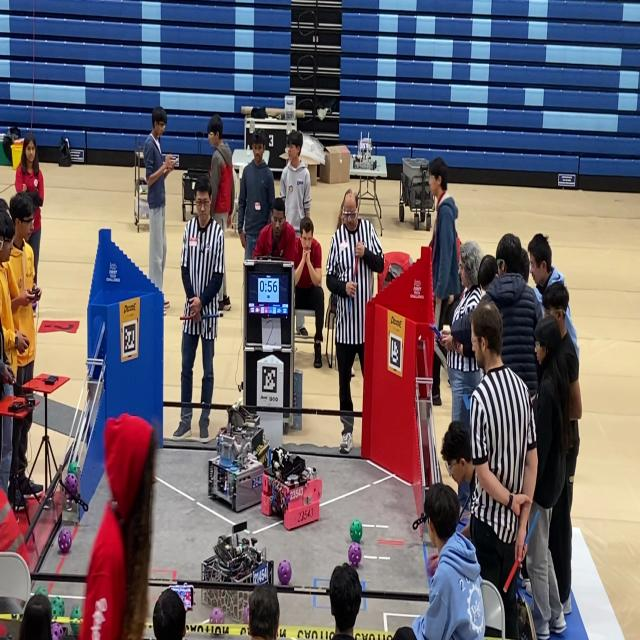artifact_green: (70, 607, 81, 635), (51, 597, 65, 618), (350, 520, 362, 542), (51, 622, 65, 639), (242, 603, 250, 625), (35, 587, 48, 597), (68, 462, 78, 475)
artifact_purple: (58, 527, 72, 555), (277, 559, 292, 585), (348, 542, 361, 567), (427, 553, 439, 579), (64, 473, 78, 495), (210, 608, 224, 624), (51, 623, 64, 639), (243, 604, 249, 624), (0, 623, 6, 637)
